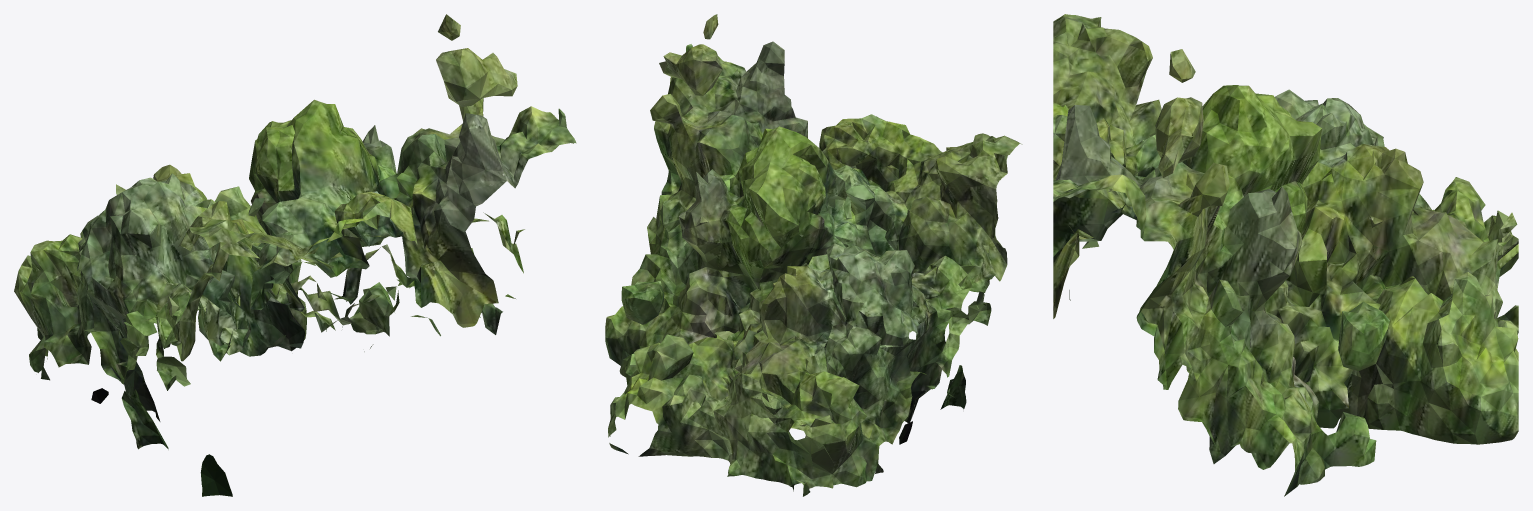
3 views of the same model, side by side, from view 1: azimuth 30°, elevation 25°; view 2: azimuth 150°, elevation 25°; view 3: azimuth 270°, elevation 25° (orthographic). The views are drawn at different scales.
Size of the model in its own units: 26.11 by 25.36 by 26.11.
7 materials, 7 textured.
